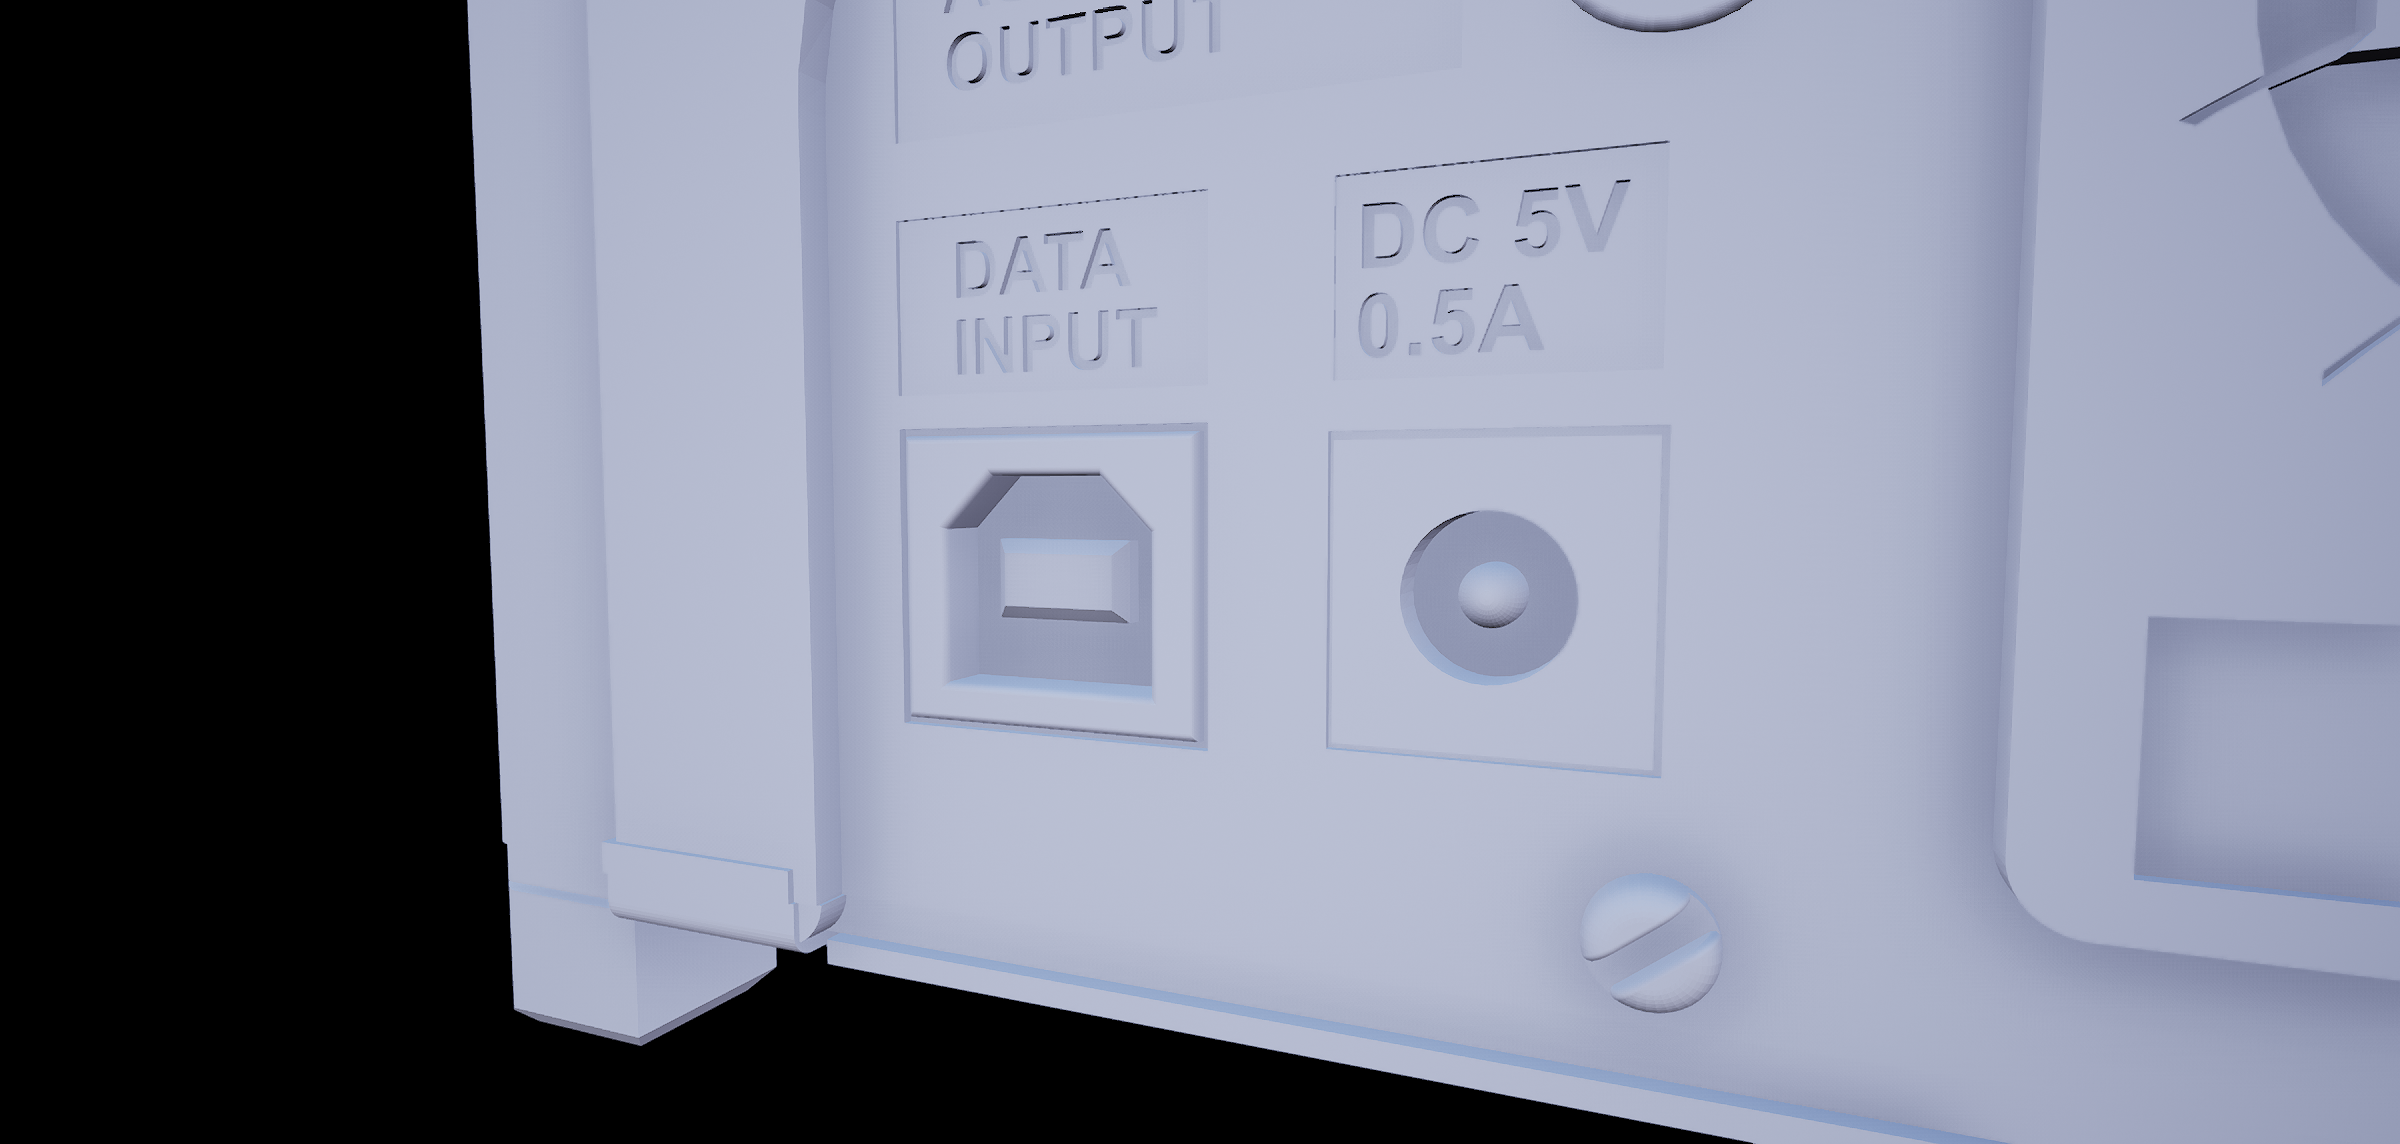dc: (1378, 490, 1599, 695)
usb: (935, 450, 1169, 717)
